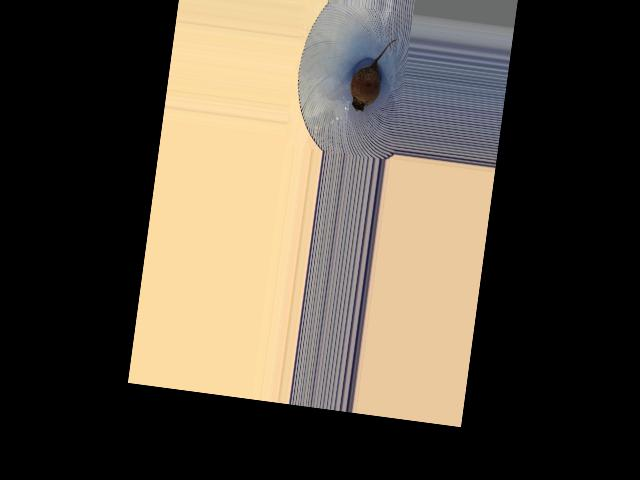beet: (348, 34, 396, 115)
